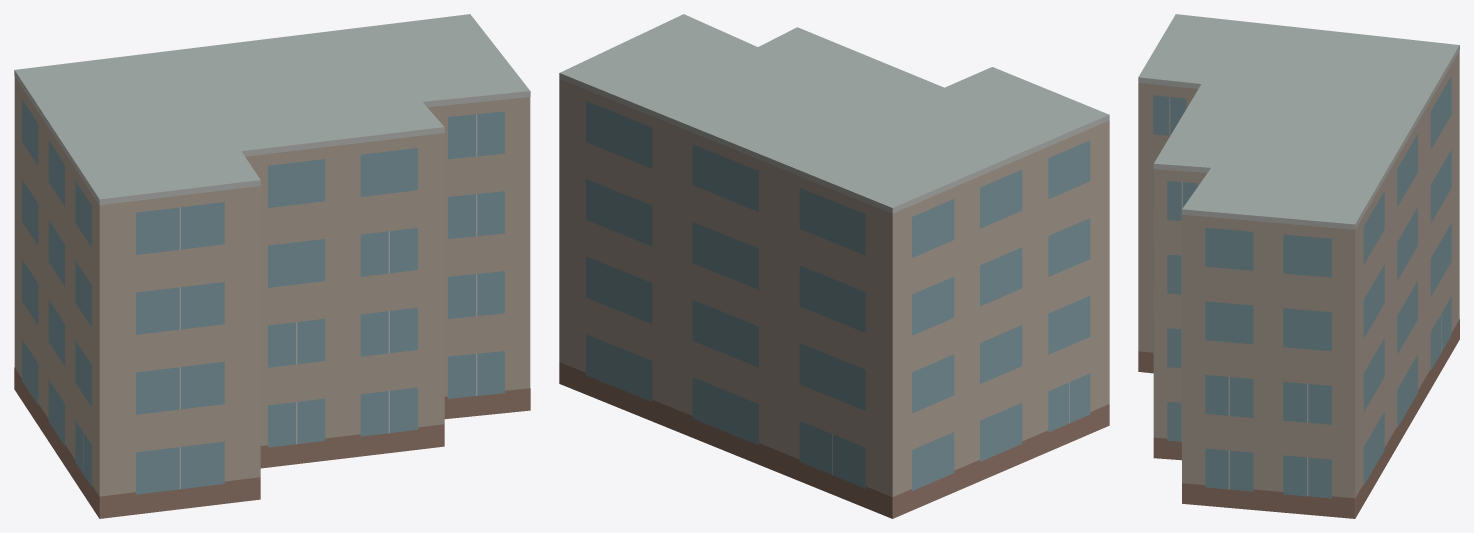
Rendered from survey-upis-32844992.glb.
3 renders of one model, left to right at view 1: azimuth 30°, elevation 25°; view 2: azimuth 150°, elevation 25°; view 3: azimuth 270°, elevation 25°, orthographic. The views are drawn at different scales.
Visible parts, largest first — view 1: survey-upis-32844992.tmp; view 2: survey-upis-32844992.tmp; view 3: survey-upis-32844992.tmp.
Boxes of the visible parts, box(x1,y1,x2,y2) form: survey-upis-32844992.tmp: box(14, 14, 530, 518); survey-upis-32844992.tmp: box(559, 14, 1109, 518); survey-upis-32844992.tmp: box(1138, 14, 1459, 518).
Size of the model in its own units: 20.4 by 13.3 by 13.17.
